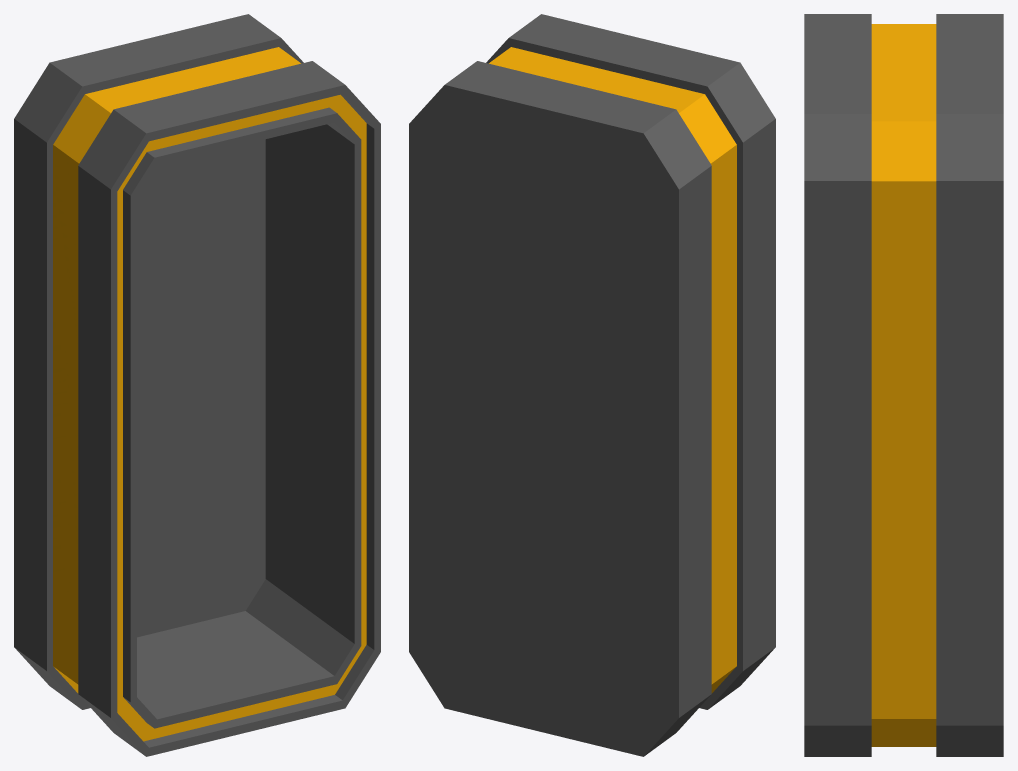
File: Stand 2.fbx
3 views of the same model, side by side, from view 1: azimuth 30°, elevation 25°; view 2: azimuth 150°, elevation 25°; view 3: azimuth 270°, elevation 25° (orthographic). The views are drawn at different scales.
Visible parts, largest first — view 1: Cube.087; view 2: Cube.087; view 3: Cube.087.
Part boxes in pixels (left/top/right/bottom): Cube.087: left=14, top=14, right=380, bottom=756; Cube.087: left=409, top=14, right=775, bottom=756; Cube.087: left=804, top=14, right=1003, bottom=756.
Size of the model in its own units: 0.7722 by 1.7 by 0.4798.
